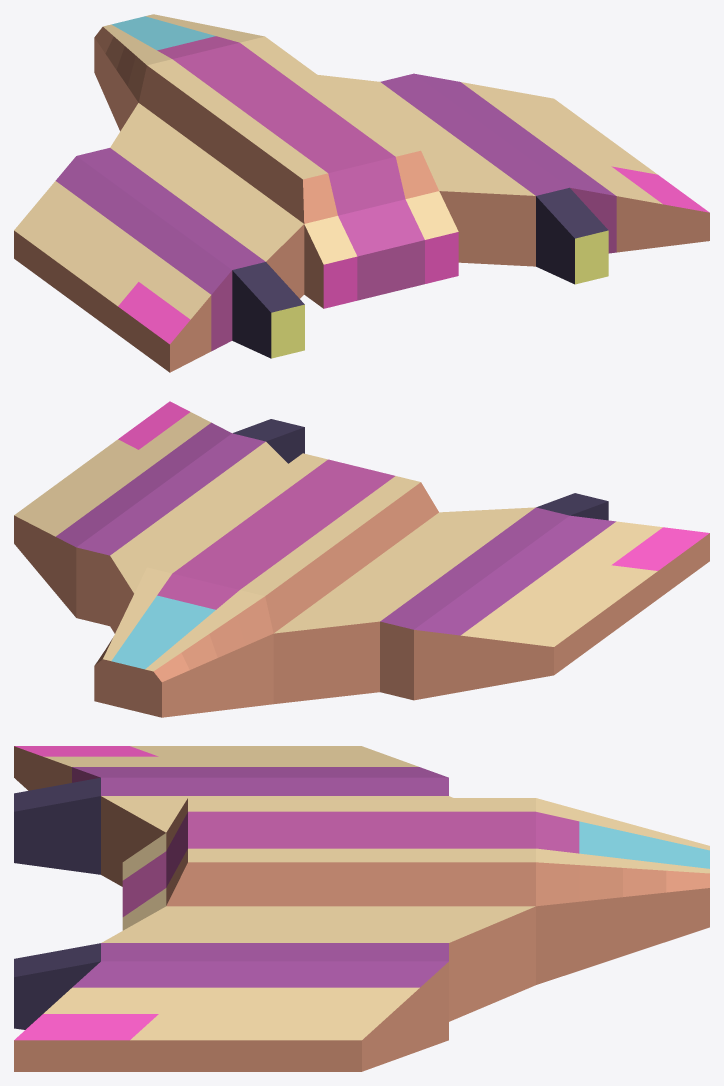
File: ship.fbx
The picture shows the model from 3 angles, top to bottom: view 1: azimuth 30°, elevation 25°; view 2: azimuth 150°, elevation 25°; view 3: azimuth 270°, elevation 25°; orthographic projection. The views are drawn at different scales.
Visible parts, largest first — view 1: ship_mesh; view 2: ship_mesh; view 3: ship_mesh.
Part boxes in pixels (bbox=[...]): ship_mesh: bbox=[14, 14, 709, 372]; ship_mesh: bbox=[14, 401, 709, 717]; ship_mesh: bbox=[14, 746, 709, 1071].
Bounding box in the file's own units: 50 × 9.38 × 50.
1 material, 1 textured.
